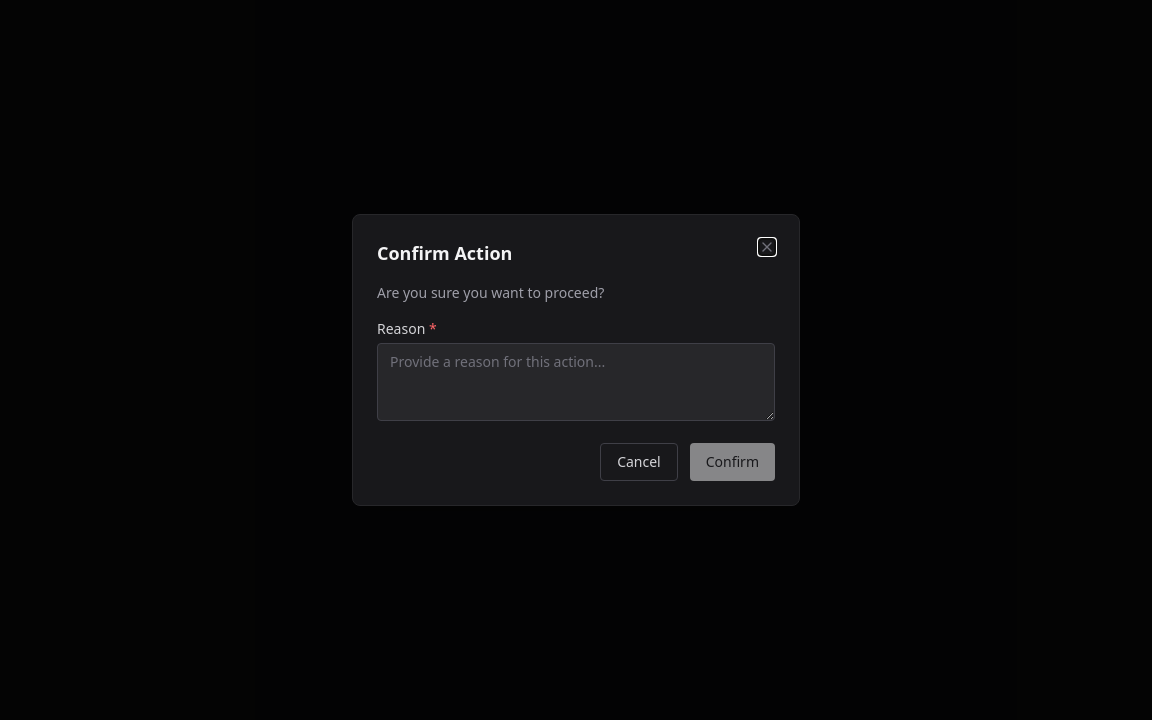
Test: ConfirmDialog › enables confirm when reason is provided
Type "Valid reason" into the text box at [576, 382], box top-left (377, 343), bottom-right (775, 421)
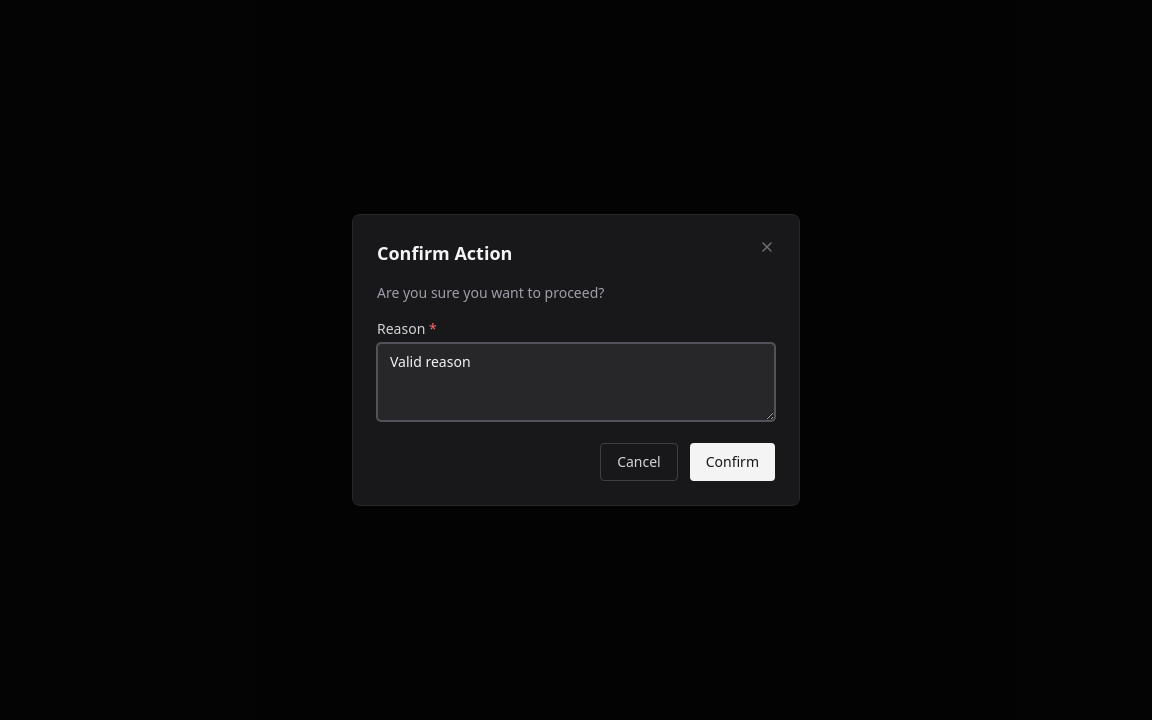
Now the button "Confirm" is enabled, box top-left (690, 443), bottom-right (775, 481)
